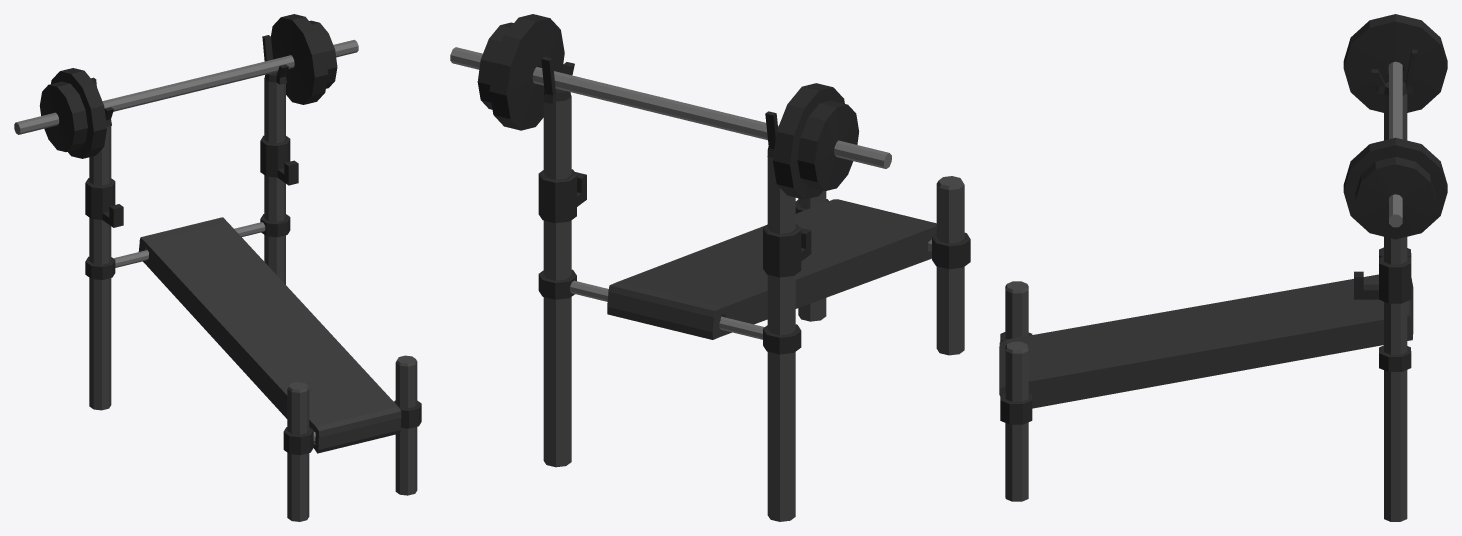
The model's file is SM_Props_Gym_02.fbx.
3 views of the same model, side by side, from view 1: azimuth 30°, elevation 25°; view 2: azimuth 150°, elevation 25°; view 3: azimuth 270°, elevation 25° (orthographic). The views are drawn at different scales.
Parts seen in each view (by area): view 1: SM_Props_Gym_02; view 2: SM_Props_Gym_02; view 3: SM_Props_Gym_02.
Part boxes in pixels (x1,y1,x2,y2): SM_Props_Gym_02: (14, 14, 421, 521); SM_Props_Gym_02: (450, 14, 970, 521); SM_Props_Gym_02: (999, 14, 1447, 521).
Size of the model in its own units: 1.49 by 1.42 by 1.49.
